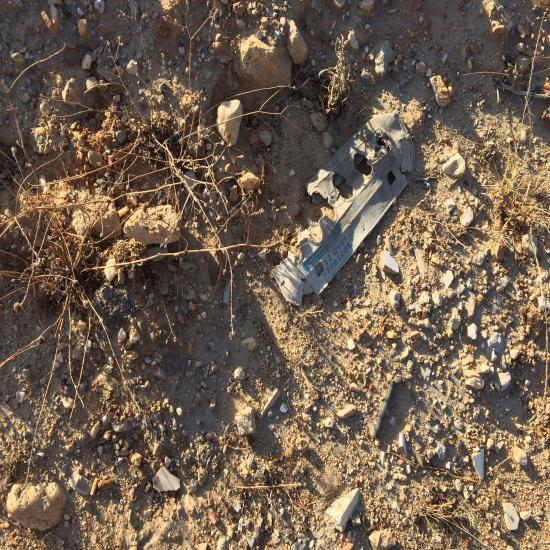Egg carton: (271, 110, 415, 305)
